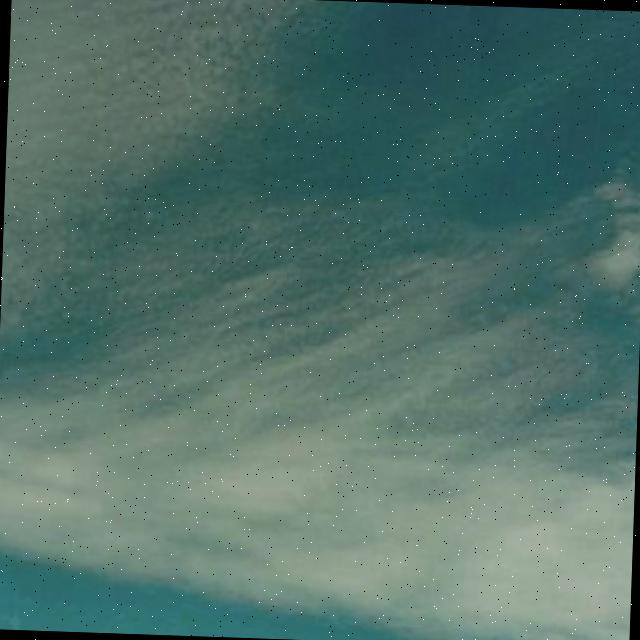Cc: (1, 1, 640, 591)
